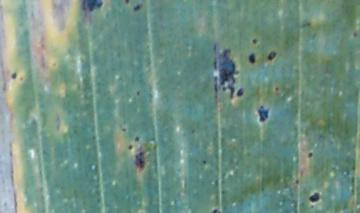tarspot: (213, 41, 238, 99), (82, 1, 104, 12), (257, 104, 269, 123), (135, 151, 146, 170), (309, 191, 320, 202), (133, 3, 144, 12), (237, 86, 245, 98), (249, 52, 256, 65), (268, 51, 277, 61), (9, 71, 18, 80), (251, 36, 258, 46), (133, 135, 141, 143), (306, 150, 314, 158), (135, 88, 142, 97), (352, 30, 359, 39), (127, 143, 134, 151), (120, 126, 128, 133), (211, 208, 221, 213), (294, 177, 300, 185), (273, 86, 280, 92), (302, 22, 312, 26), (202, 158, 207, 165), (310, 203, 315, 209), (124, 1, 131, 5)
